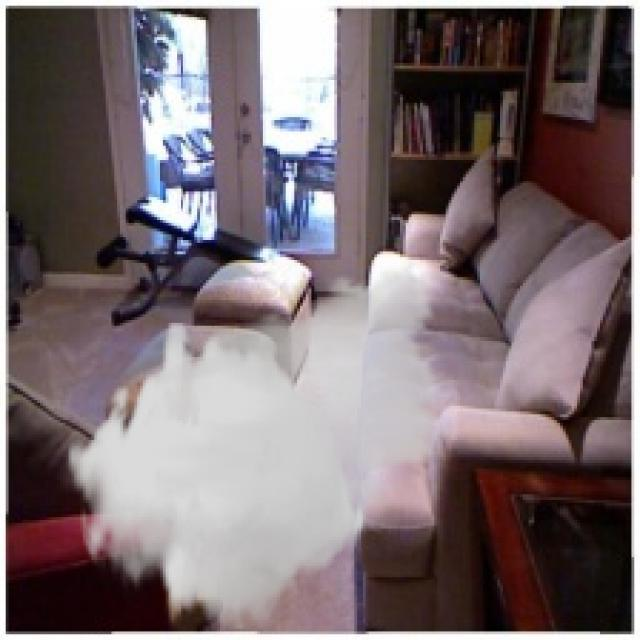Smoke: (66, 252, 457, 628)
